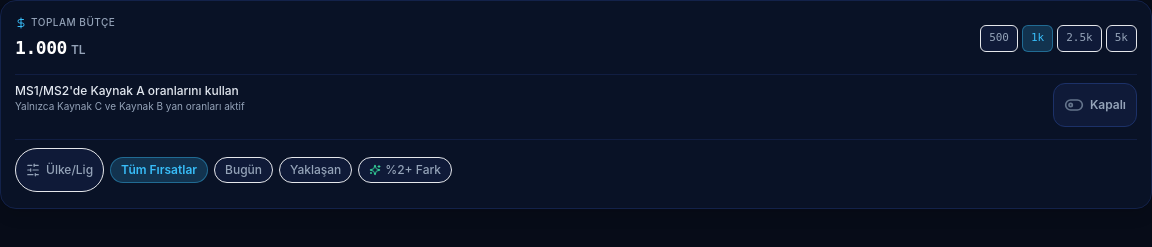
Scenario: StickyControlBar budget editor › rejects invalid whole-TL budget 1e3
Click the text "1.000".
click(41, 48)  # box x1=15 y1=34 x2=67 y2=62
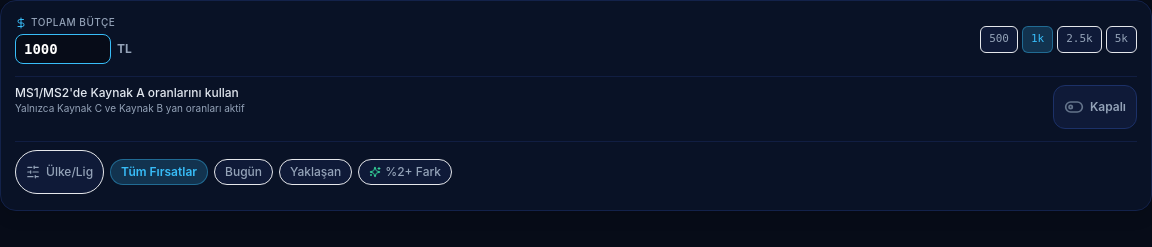
Replace the text in the field named "Toplam bütçe (TL)" with "1e3" at (63, 49), box x1=15 y1=34 x2=111 y2=64
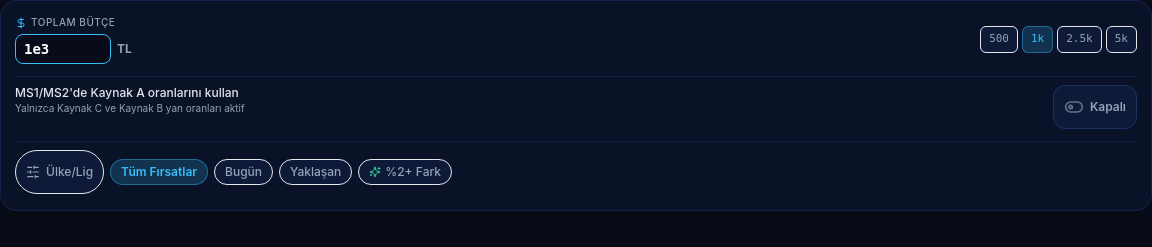
Submit the form named "Toplam bütçe (TL)", box x1=15 y1=34 x2=132 y2=64
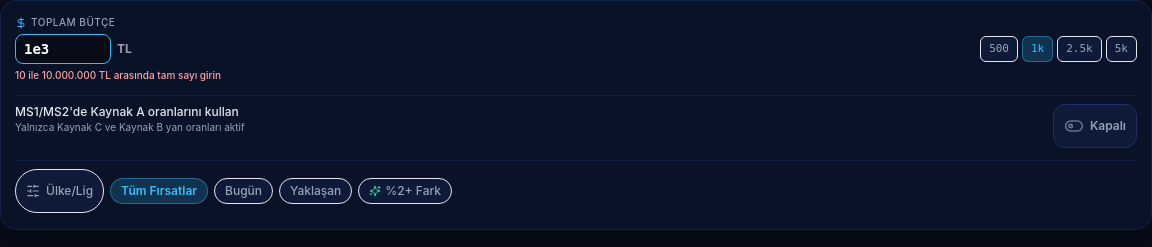
Check: the message reads "10 ile 10.000.000 TL arasında tam sayı girin", box x1=15 y1=69 x2=221 y2=81
